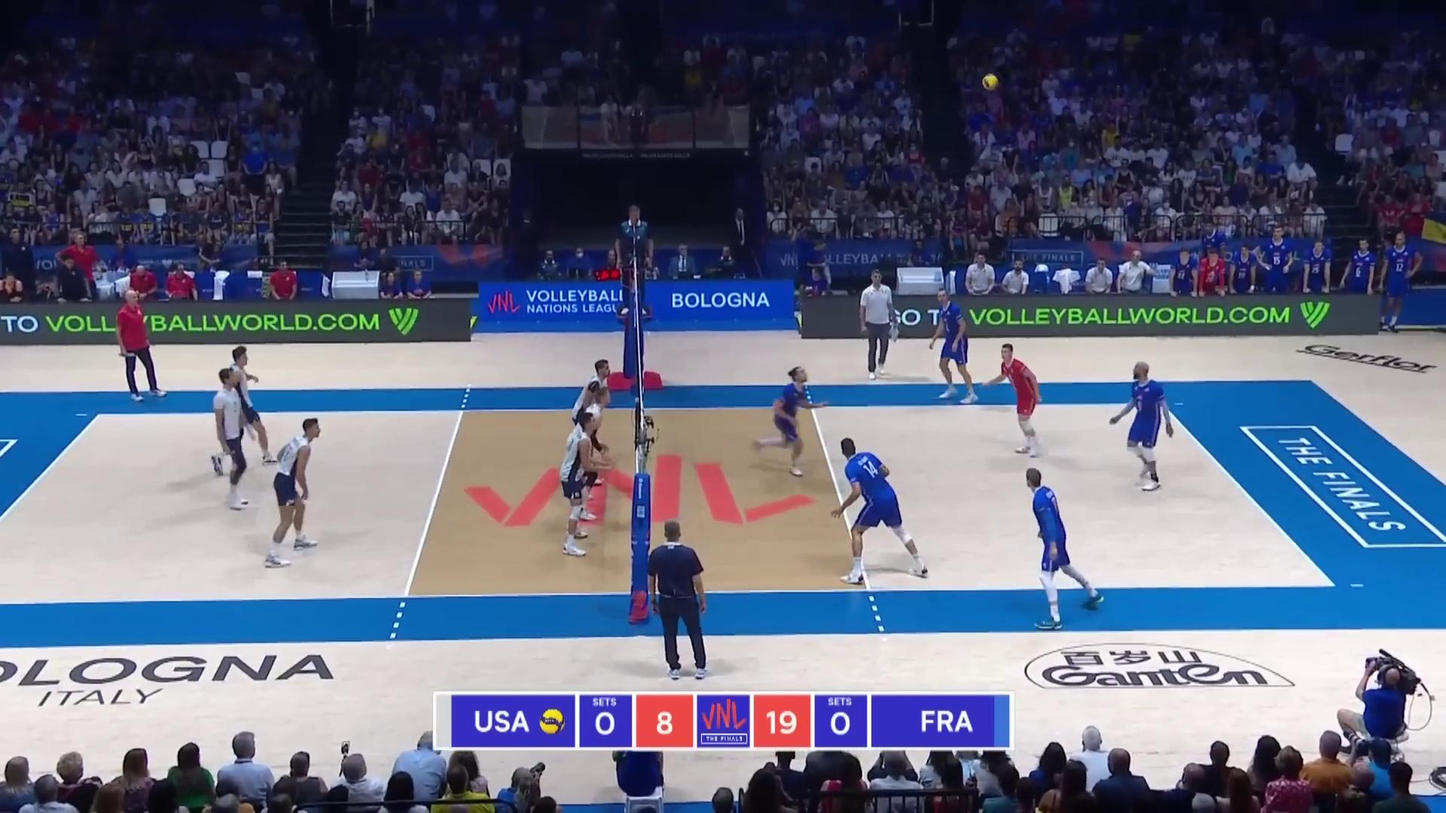player: (832, 437, 925, 581), (1023, 467, 1105, 630), (1110, 363, 1174, 494), (265, 419, 321, 567), (753, 367, 828, 474), (217, 351, 280, 472), (559, 413, 607, 559), (982, 344, 1043, 458), (930, 289, 982, 404), (216, 367, 255, 512), (569, 388, 612, 518), (571, 359, 612, 489)
refree: (641, 522, 708, 682), (616, 208, 653, 319)
